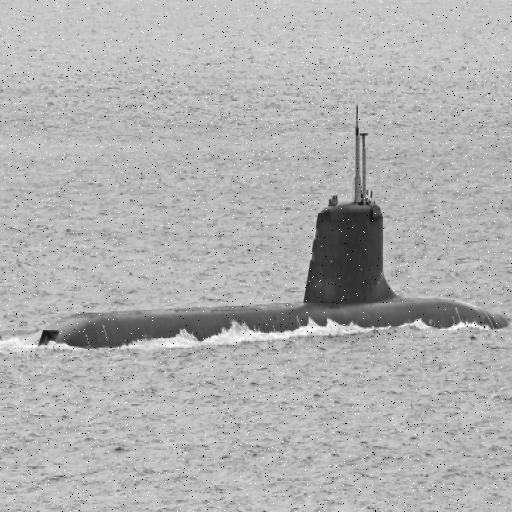submarine: (1, 86, 512, 353)
